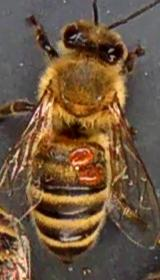varroa_mite: (60, 140, 99, 168), (78, 158, 114, 187)
